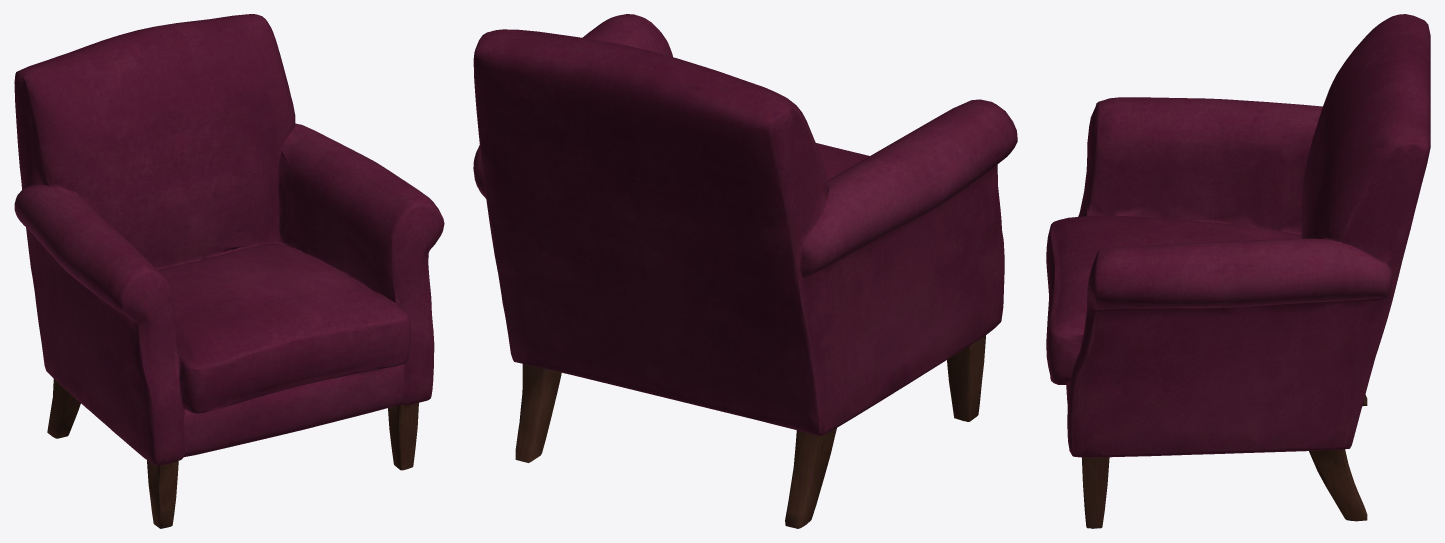
File: chair.glb
The picture shows the model from 3 angles, left to right: view 1: azimuth 30°, elevation 25°; view 2: azimuth 150°, elevation 25°; view 3: azimuth 270°, elevation 25°; orthographic projection. The views are drawn at different scales.
Parts seen in each view (by area): view 1: chair; view 2: chair; view 3: chair.
Boxes of the visible parts, box(x1,y1,x2,y2) form: chair: box(14, 14, 444, 528); chair: box(473, 14, 1017, 528); chair: box(1046, 14, 1430, 528).
Bounding box in the file's own units: 0.8976 × 0.95 × 0.8267.
1 material, 1 textured.
